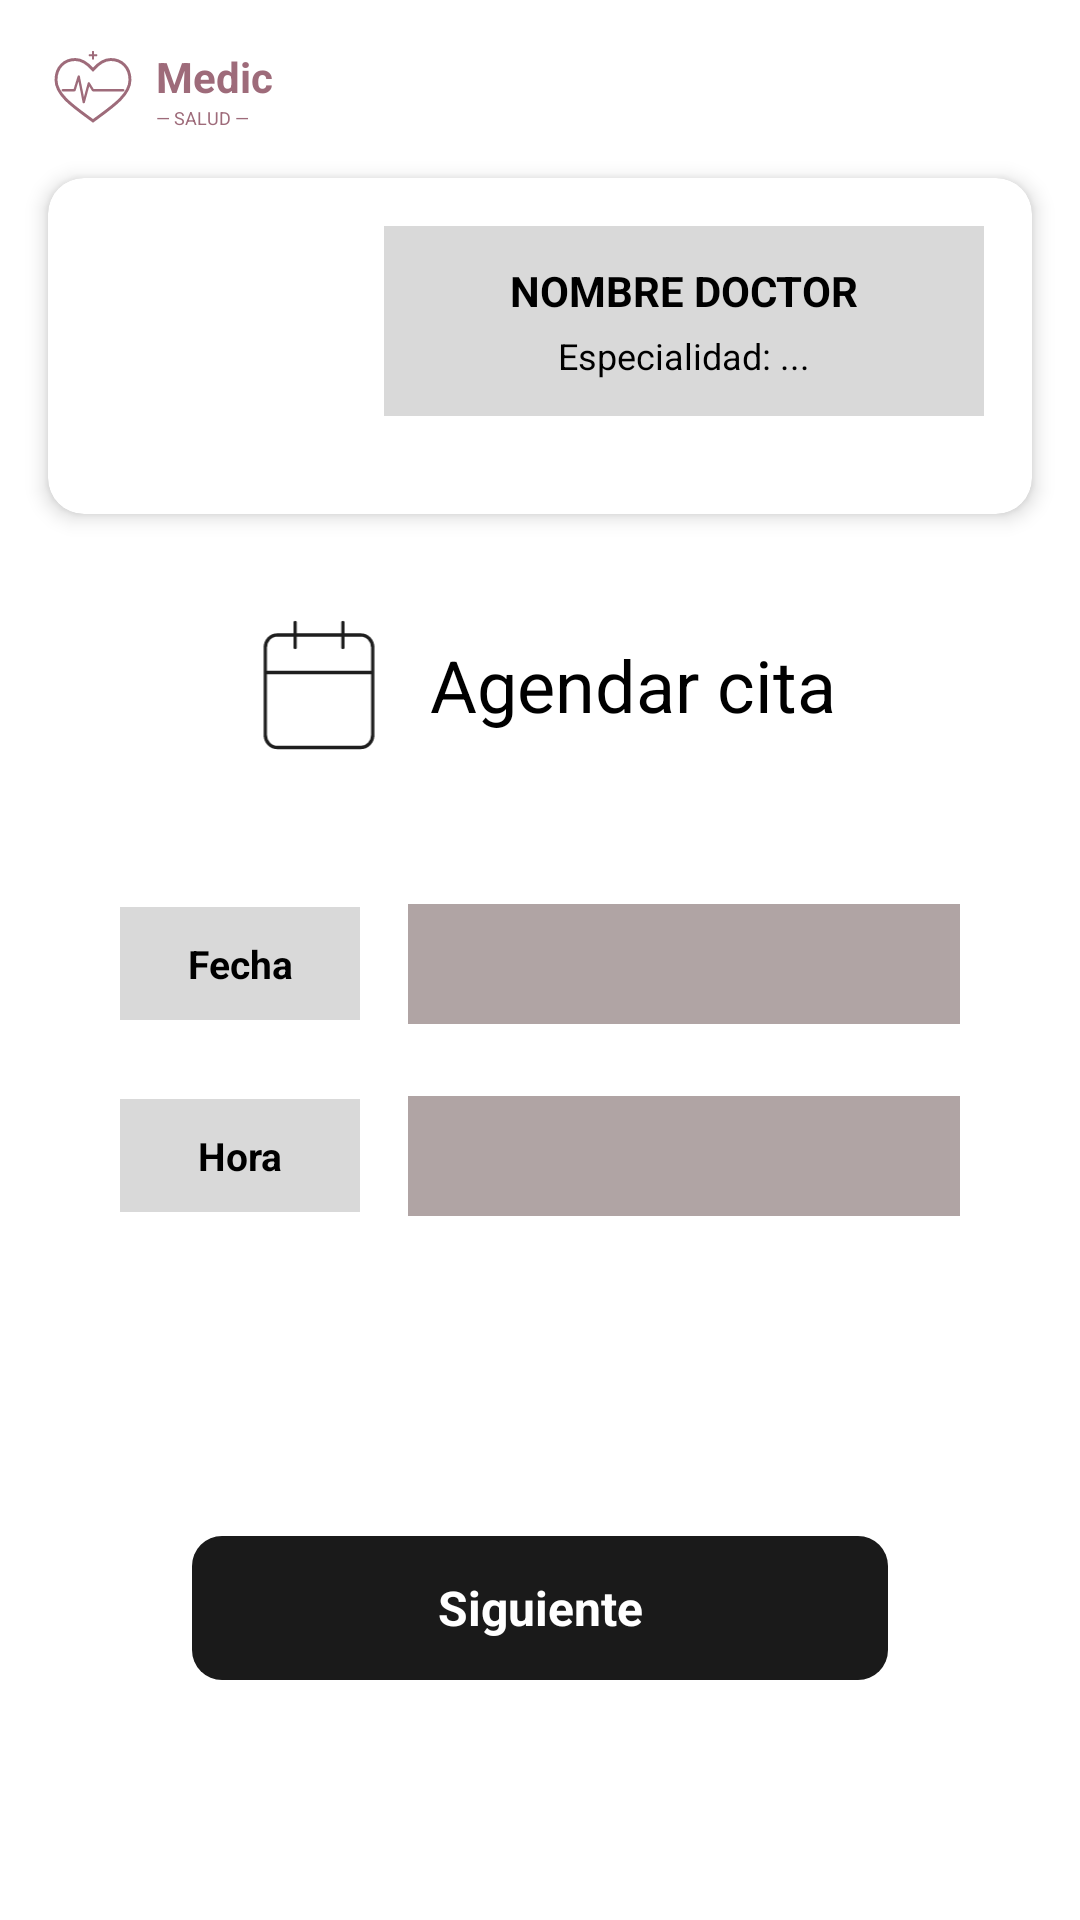

Icons on this 1080 × 1920 Android screen, each with the point to tap as (x=x, y=y):
calendario: (x=319, y=685)
